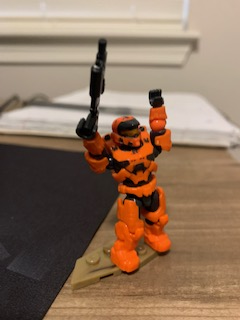rifle: (85, 35, 107, 136)
spartan: (75, 89, 177, 273)
up: (75, 88, 176, 187)
